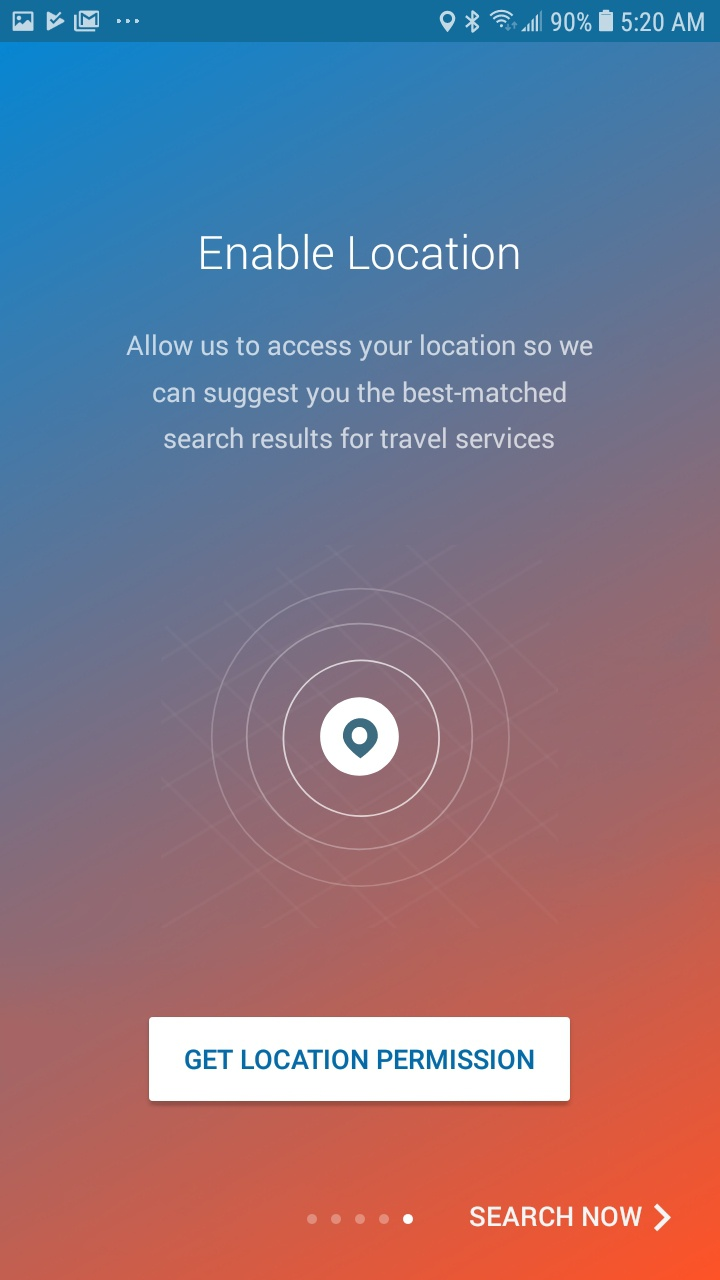Icon: (320, 697, 400, 777), (653, 1203, 672, 1232)
PageIndicator: (307, 1213, 414, 1225)
Text: (126, 334, 593, 450), (201, 234, 520, 272), (470, 1205, 643, 1227)
TextButton: (149, 1017, 571, 1102)
UpperTaskBar: (1, 1, 720, 43)
